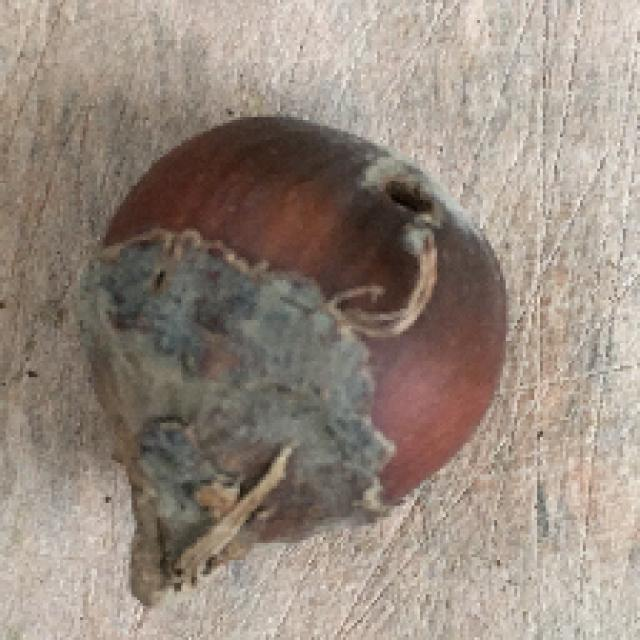damagedHazelnut: (82, 116, 510, 604)
